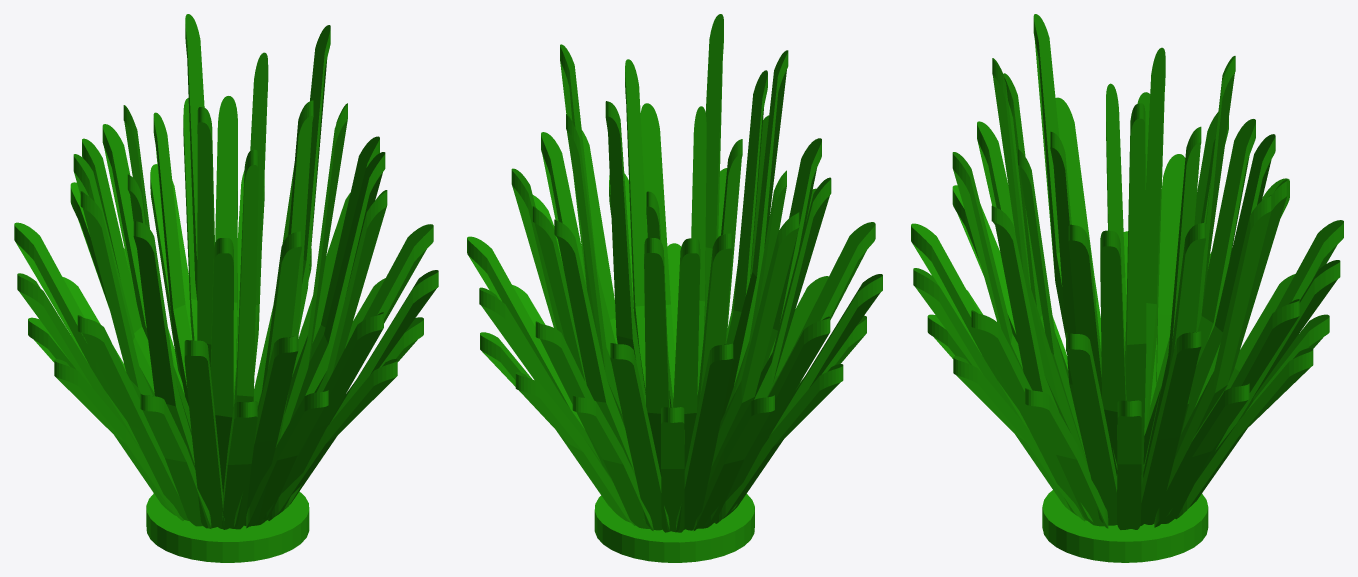
Rendered from legokusa.fbx.
3 views of the same model, side by side, from view 1: azimuth 30°, elevation 25°; view 2: azimuth 150°, elevation 25°; view 3: azimuth 270°, elevation 25° (orthographic). The views are drawn at different scales.
Visible parts, largest first — view 1: Circle.040; view 2: Circle.040; view 3: Circle.040.
Boxes of the visible parts, x1,y1,x2,y2 form: Circle.040: [14, 14, 438, 562]; Circle.040: [467, 14, 882, 562]; Circle.040: [911, 14, 1343, 562].
Bounding box in the file's own units: 183 × 227 × 186.
